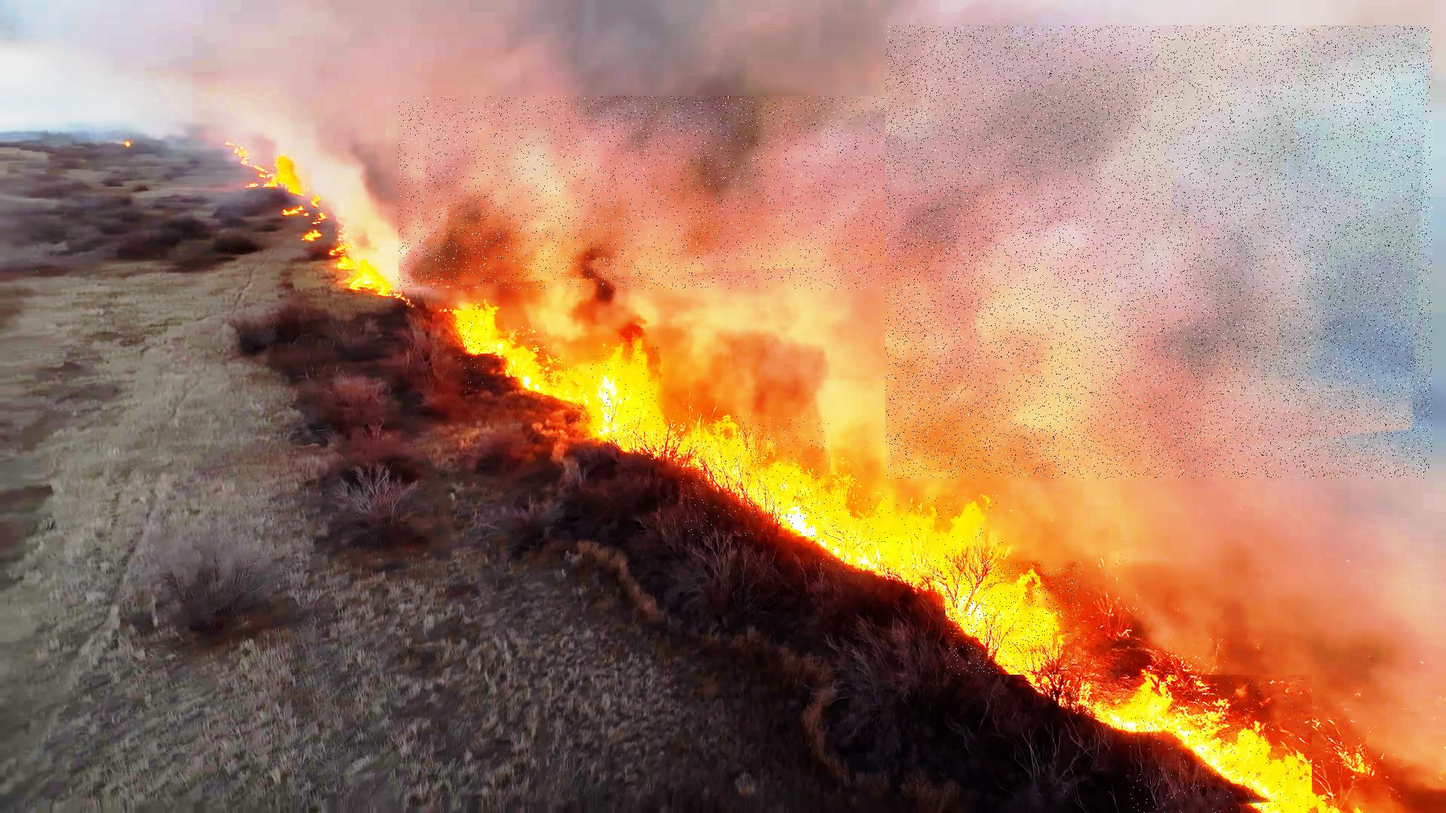fire: (1127, 675, 1312, 813), (681, 415, 830, 536), (945, 562, 1081, 675), (820, 495, 1005, 572), (590, 347, 659, 446), (456, 304, 489, 394)
smoke: (885, 25, 1432, 479), (398, 96, 1415, 289)
